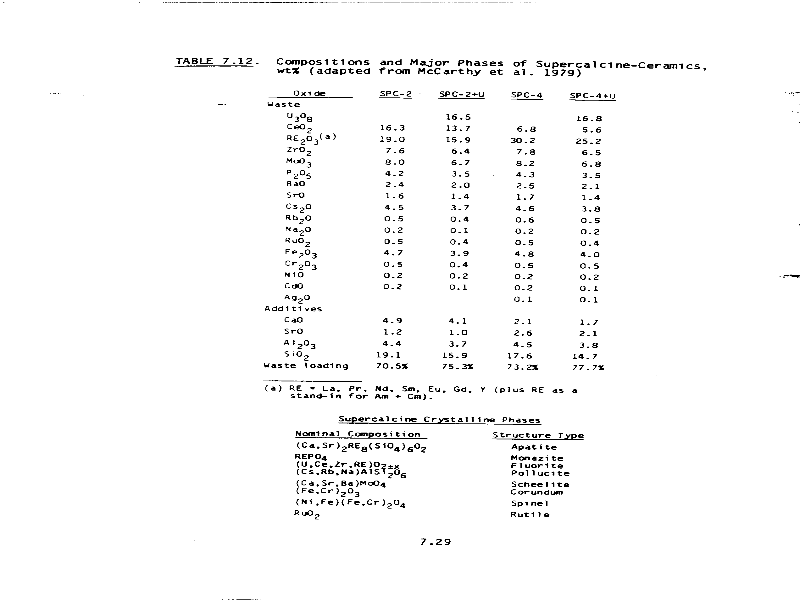table: (261, 87, 633, 403), (293, 413, 586, 522)
